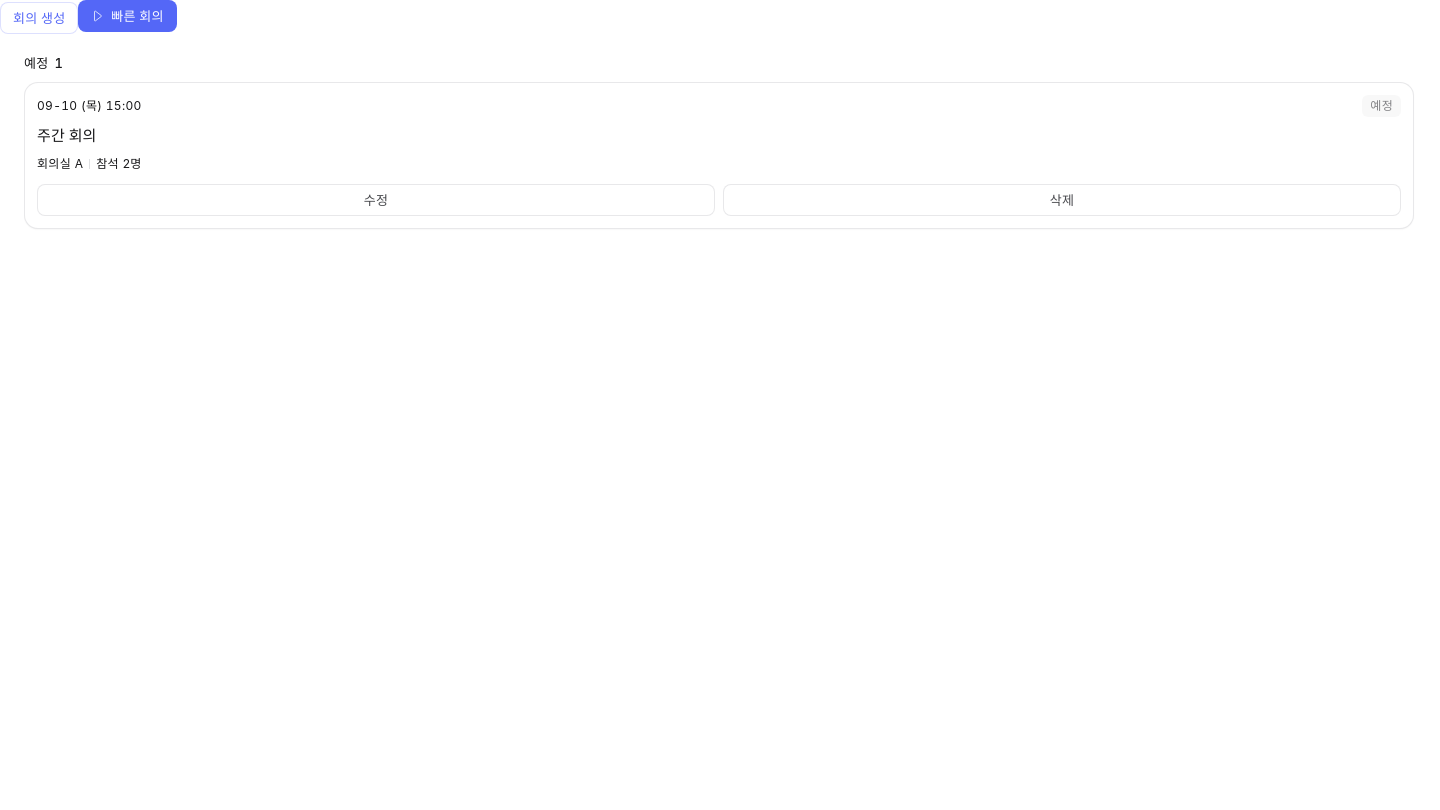
회의 정보 수정 — 목록 카드의 [수정]이 여는 모달 › 칸은 지금 값으로 차 있고, 바뀐 것이 없으면 저장할 수 없다
Click the button "수정" at coordinates (376, 200), box 37,184 -> 715,216
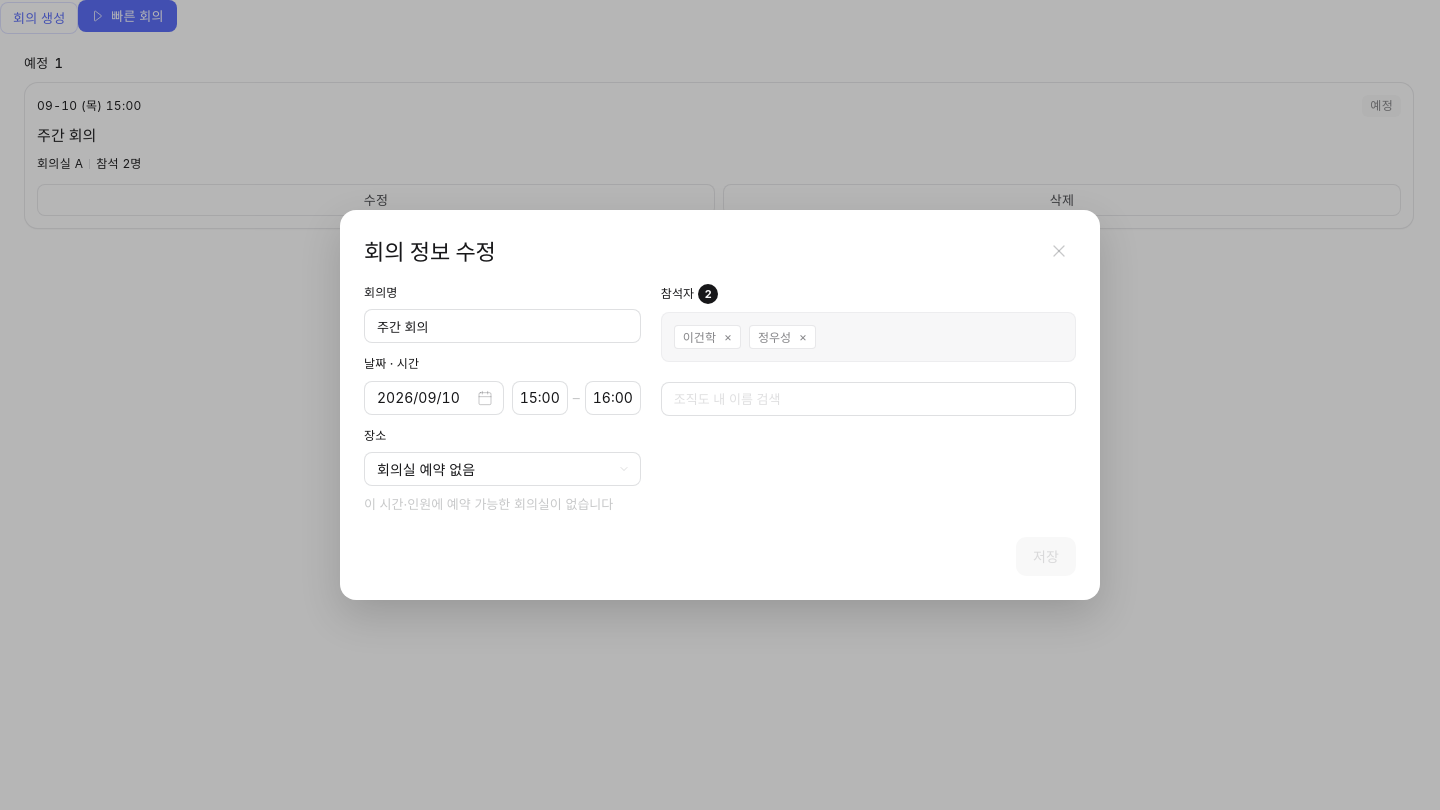
Now the field labelled "회의명" holds "주간 회의", box 364,309 -> 641,343
Now the text with class "select-value" reads "회의실 예약 없음", box 377,461 -> 475,478
Now the button named "시작 시각" reads "15:00", box 512,381 -> 568,415
